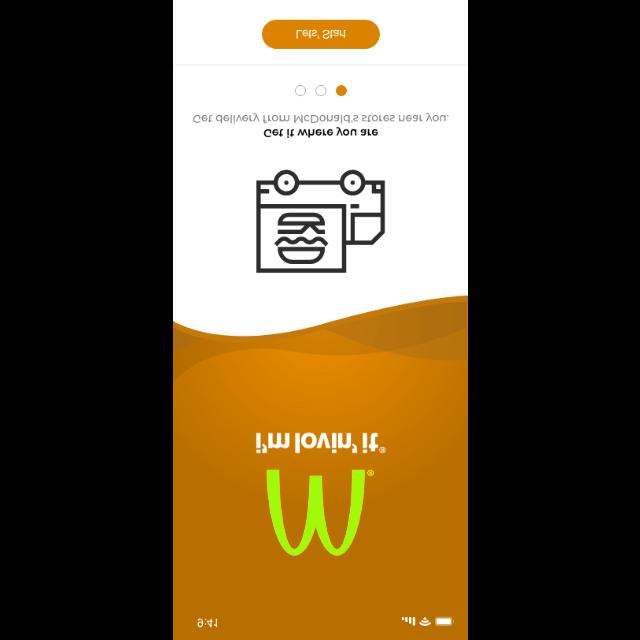image: (256, 431, 386, 555), (256, 170, 384, 272)
pageindicator: (294, 84, 348, 96)
text: (193, 112, 449, 124), (264, 128, 378, 138)
textbutton: (262, 20, 381, 48)
uppertaskbar: (196, 616, 454, 626)
